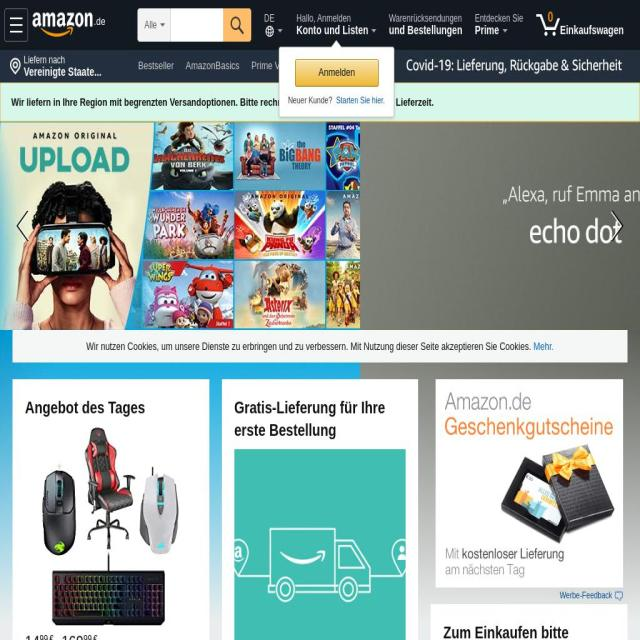button: (25, 426, 197, 626), (234, 449, 406, 640), (0, 122, 50, 330), (590, 122, 640, 330), (390, 50, 640, 82), (530, 5, 638, 47), (33, 4, 133, 46), (290, 5, 382, 47), (383, 5, 468, 47), (7, 51, 109, 83), (4, 8, 112, 38), (469, 5, 529, 47), (133, 128, 243, 150), (294, 59, 379, 87), (133, 92, 212, 113), (254, 5, 290, 47), (288, 92, 360, 113), (298, 165, 366, 187), (292, 128, 359, 150), (133, 165, 200, 187), (181, 55, 245, 77), (133, 202, 198, 223), (246, 55, 301, 77), (201, 165, 253, 187), (133, 55, 179, 77), (244, 128, 290, 150), (199, 202, 246, 223), (255, 165, 298, 187), (213, 92, 258, 113), (4, 8, 28, 42), (559, 590, 623, 602), (260, 92, 286, 113)
field: (170, 9, 223, 41), (223, 8, 252, 42)
heading: (234, 396, 406, 441), (25, 396, 197, 418), (443, 621, 616, 640)
iframe: (435, 379, 623, 588)
image: (234, 449, 406, 640), (42, 426, 180, 626), (390, 50, 640, 82), (33, 12, 93, 38), (536, 14, 561, 36), (8, 57, 22, 76), (10, 18, 22, 32), (265, 25, 274, 37), (614, 591, 623, 601)
link: (14, 204, 36, 248), (604, 204, 626, 248), (336, 95, 385, 105), (534, 340, 554, 352)
text: (86, 340, 532, 352), (11, 96, 434, 108), (295, 60, 378, 85), (23, 66, 108, 82), (389, 24, 468, 41), (296, 23, 369, 37), (560, 23, 624, 37), (389, 13, 468, 24), (296, 13, 357, 24), (474, 13, 530, 24), (23, 54, 72, 66), (560, 590, 614, 600), (288, 95, 334, 105), (144, 12, 158, 39), (474, 23, 500, 37), (230, 17, 244, 34), (61, 631, 83, 640), (24, 631, 39, 640), (94, 16, 105, 27), (264, 13, 275, 24), (39, 633, 49, 640), (83, 633, 92, 640), (93, 633, 98, 640), (50, 633, 54, 640)
